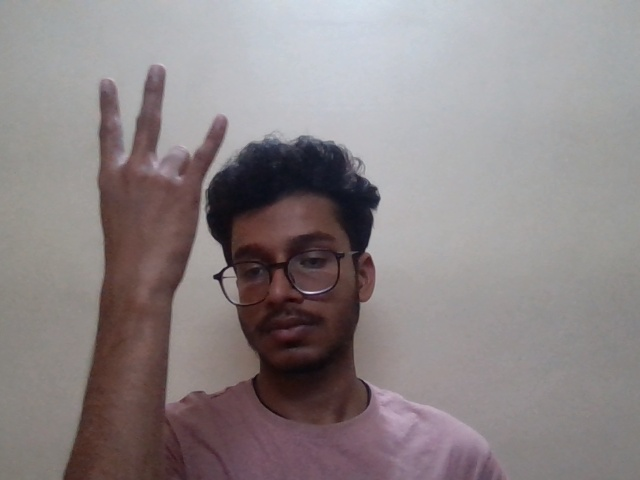why: (92, 68, 228, 269)
